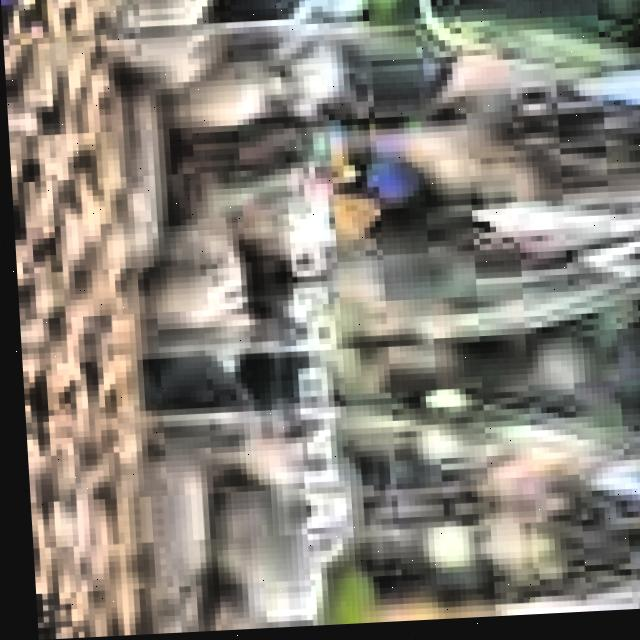plastic: (2, 14, 640, 383), (18, 357, 640, 640)
